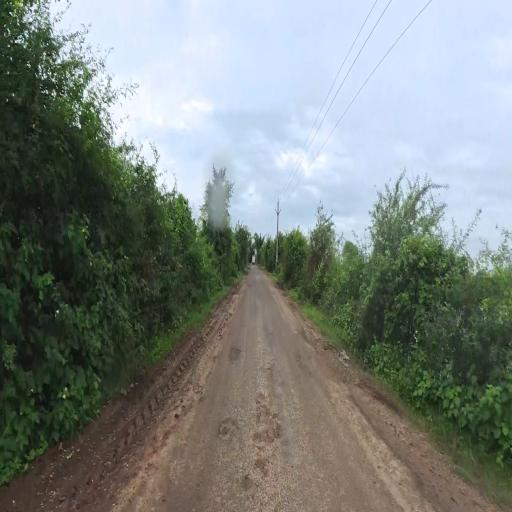ravelling: (205, 307, 299, 512)
